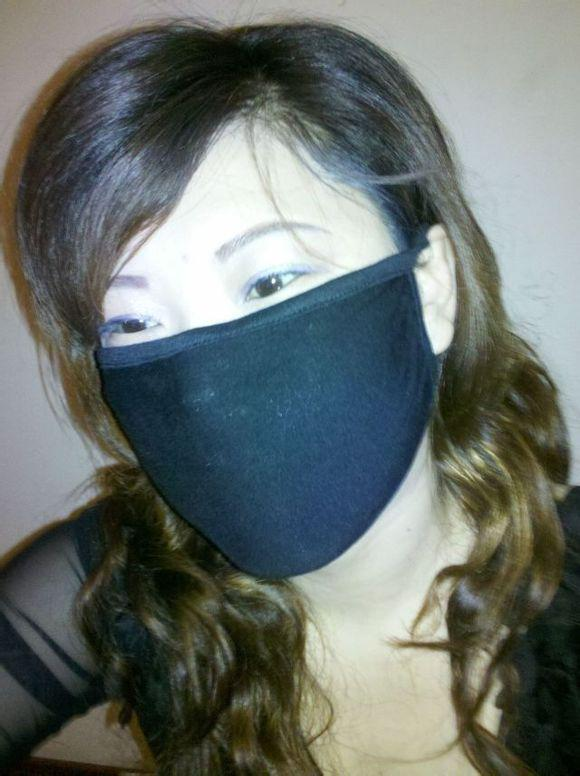OK: (97, 213, 447, 550)
